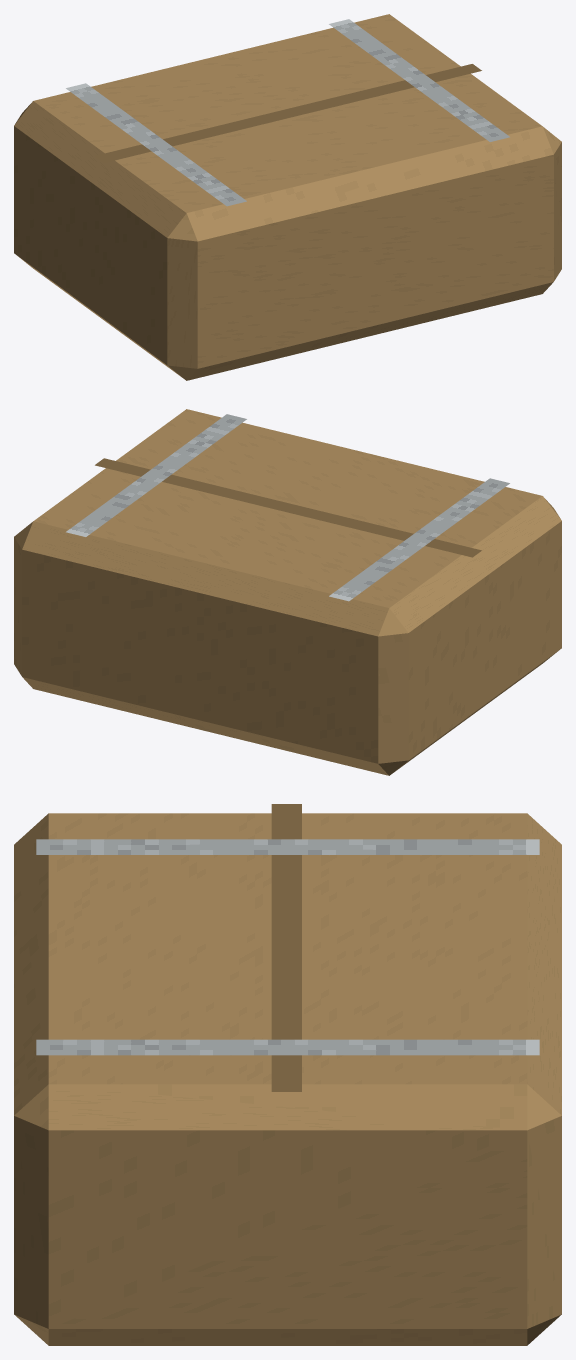
File: box_large_reinforced.glb
3 renders of one model, top to bottom at view 1: azimuth 30°, elevation 25°; view 2: azimuth 150°, elevation 25°; view 3: azimuth 270°, elevation 25°, orthographic. The views are drawn at different scales.
Visible parts, largest first — view 1: block_container body, block_reinforcing strap (×2), block_fold or seam; view 2: block_container body, block_reinforcing strap (×2), block_fold or seam; view 3: block_container body, block_reinforcing strap (×2), block_fold or seam.
Part boxes in pixels (x1=…): block_container body: x1=14, y1=14, x2=561, y2=380; block_reinforcing strap (×2): x1=66, y1=19, x2=509, y2=206; block_fold or seam: x1=95, y1=64, x2=481, y2=162; block_container body: x1=14, y1=409, x2=561, y2=775; block_reinforcing strap (×2): x1=66, y1=414, x2=509, y2=601; block_fold or seam: x1=95, y1=458, x2=481, y2=557; block_container body: x1=14, y1=813, x2=561, y2=1345; block_reinforcing strap (×2): x1=36, y1=839, x2=539, y2=1055; block_fold or seam: x1=271, y1=804, x2=301, y2=1091.
Bounding box in the file's own units: 0.91 × 0.3716 × 0.7015.
1 material, 1 textured.
